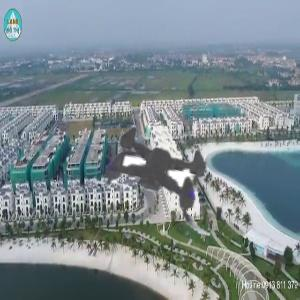drone: (34, 47, 273, 286)
